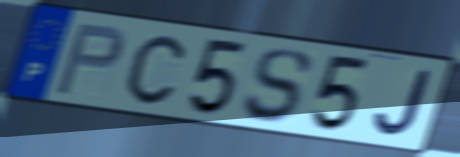5: (183, 36, 253, 119), (306, 52, 375, 135)
C: (124, 32, 188, 107)
J: (371, 67, 436, 139)
P: (51, 21, 128, 98)
S: (241, 48, 314, 125)
